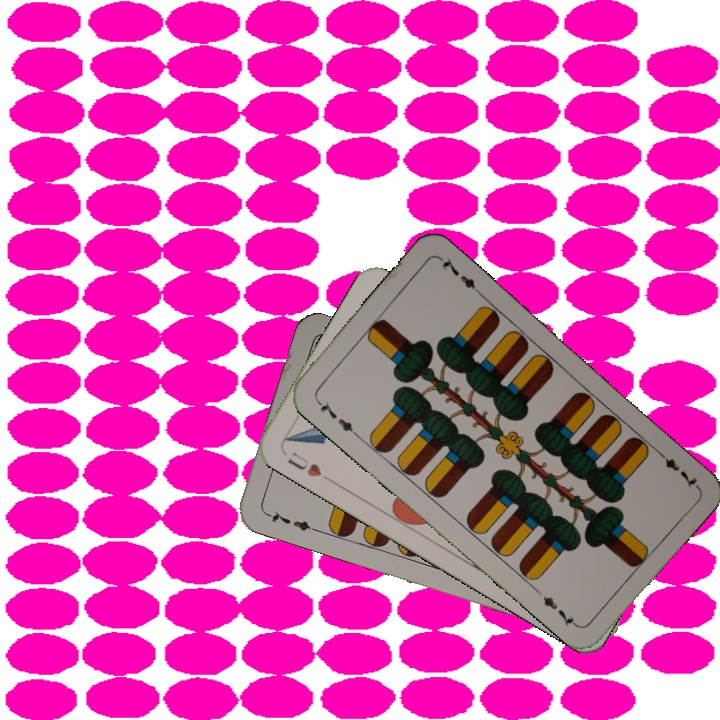E7: (652, 445, 700, 491), (312, 395, 360, 439), (261, 507, 319, 534)
HU: (283, 447, 325, 480)
